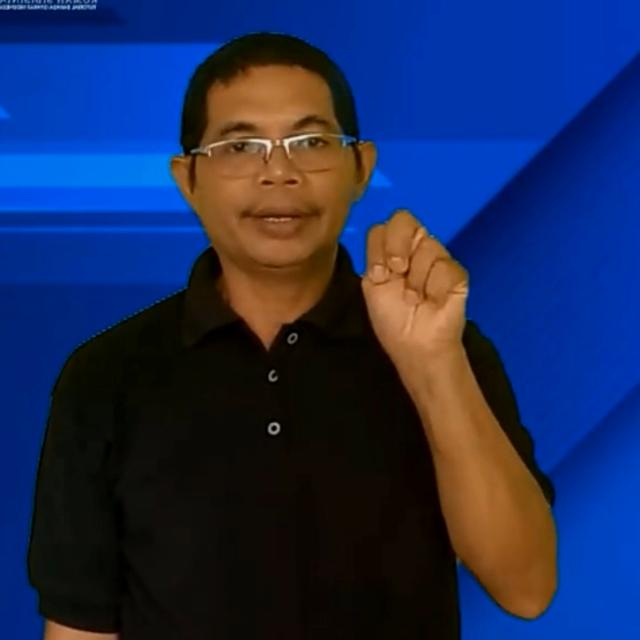N: (358, 206, 472, 350)
